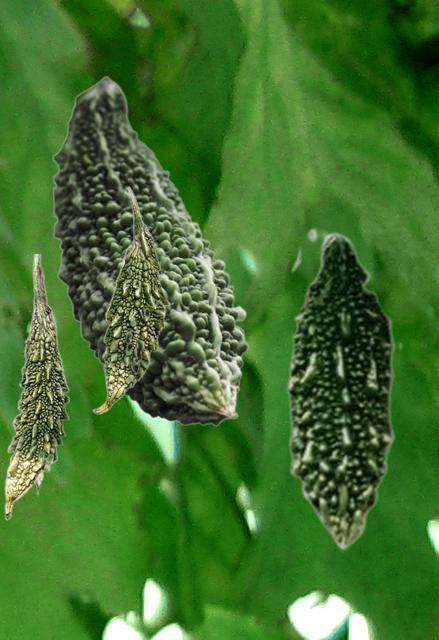ampalaya: (52, 75, 248, 425), (286, 227, 402, 551), (92, 185, 169, 413), (4, 254, 69, 520)
